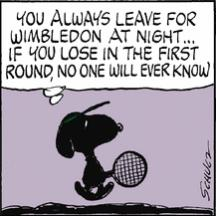snoopy: (56, 100, 148, 202)
